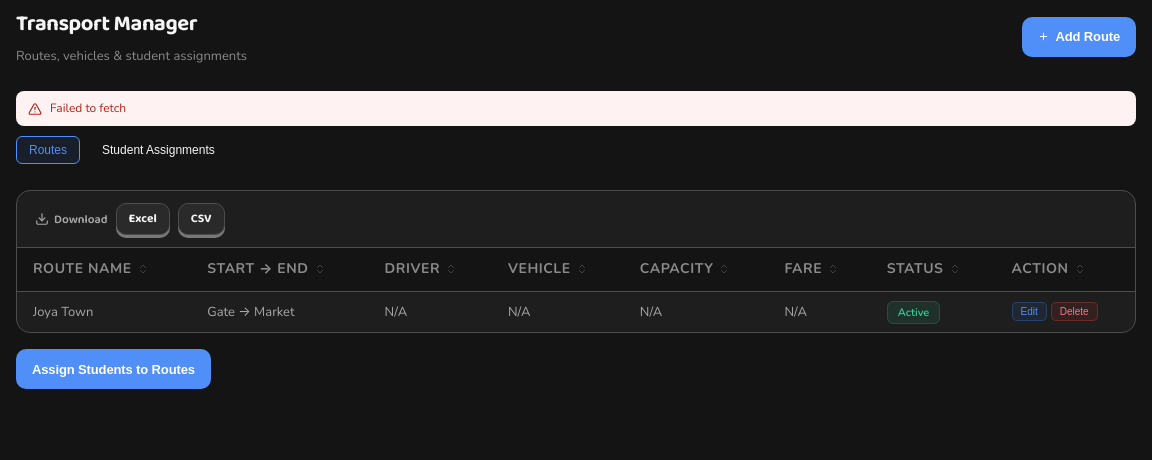
Test: a refused delete says why instead of failing silently
Check: the text "Joya Town" is shown, box [17,291,191,332]
What coordinates should you click on to do the following:
click the button "Delete"
I would click on:
 (1074, 312)
Its box is [1051,302,1098,322].
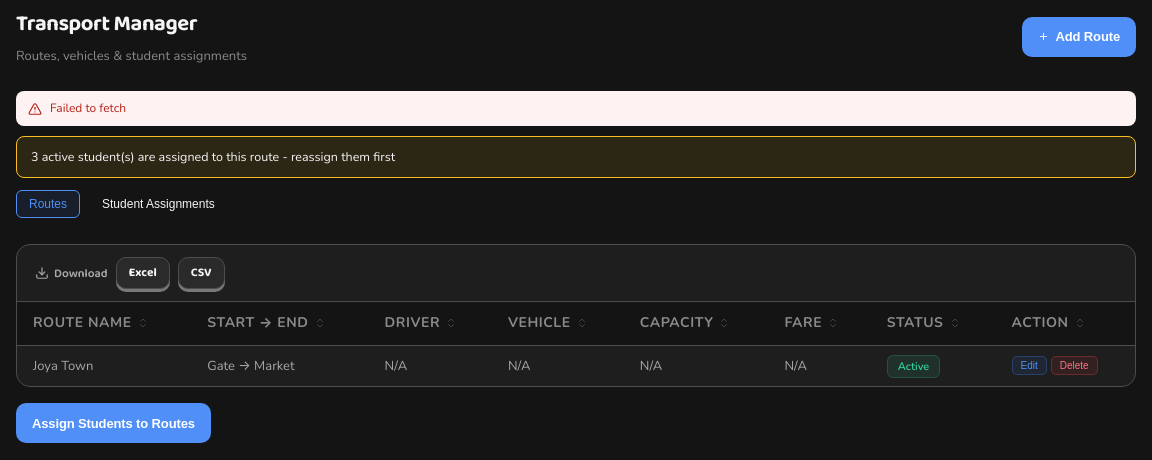
Check: the text with test id "transport-delete-notice" shows "reassign them first", box [31,148,395,165]
